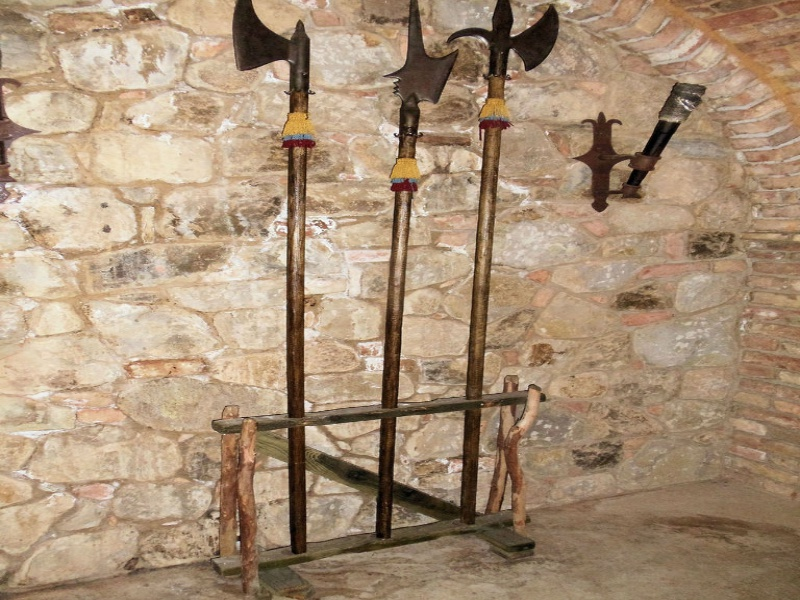axe: (442, 1, 567, 142), (382, 6, 461, 141), (227, 1, 320, 99)
